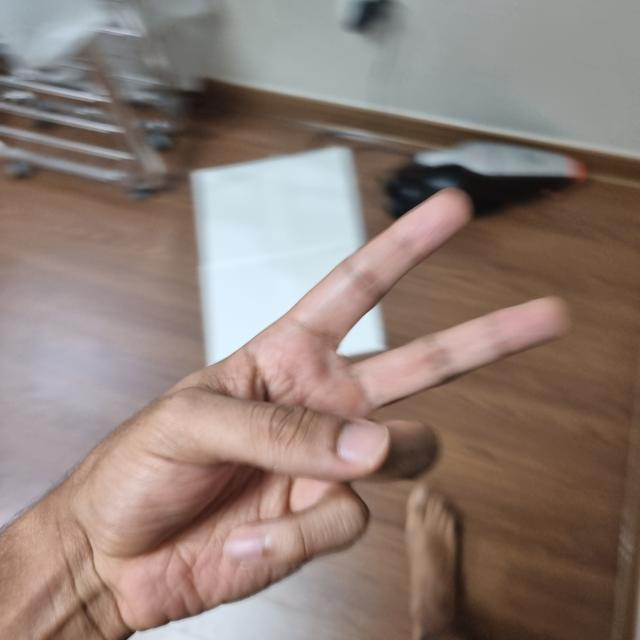Scissors: (0, 152, 637, 639)
